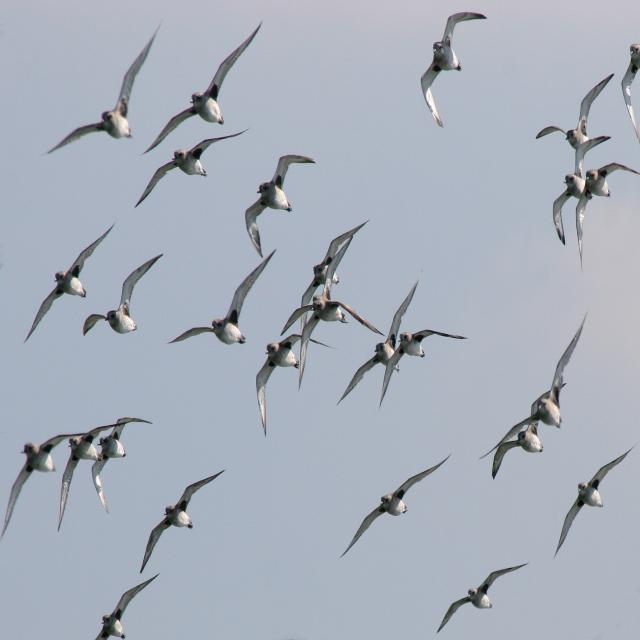bird: (146, 14, 263, 162), (48, 21, 159, 154), (162, 249, 278, 354), (336, 459, 452, 562), (338, 269, 425, 406), (21, 223, 115, 347), (497, 316, 601, 428), (137, 467, 229, 574), (552, 448, 640, 555), (57, 416, 136, 532), (293, 294, 384, 391), (479, 386, 569, 483), (418, 15, 493, 128), (290, 218, 371, 321), (531, 71, 620, 162), (131, 137, 240, 209), (375, 328, 470, 409), (1, 431, 69, 543), (574, 155, 640, 270), (82, 252, 167, 340), (436, 562, 530, 640), (549, 133, 610, 245), (244, 152, 320, 238), (91, 408, 152, 514), (256, 338, 310, 438), (82, 573, 162, 640), (619, 28, 640, 145)
